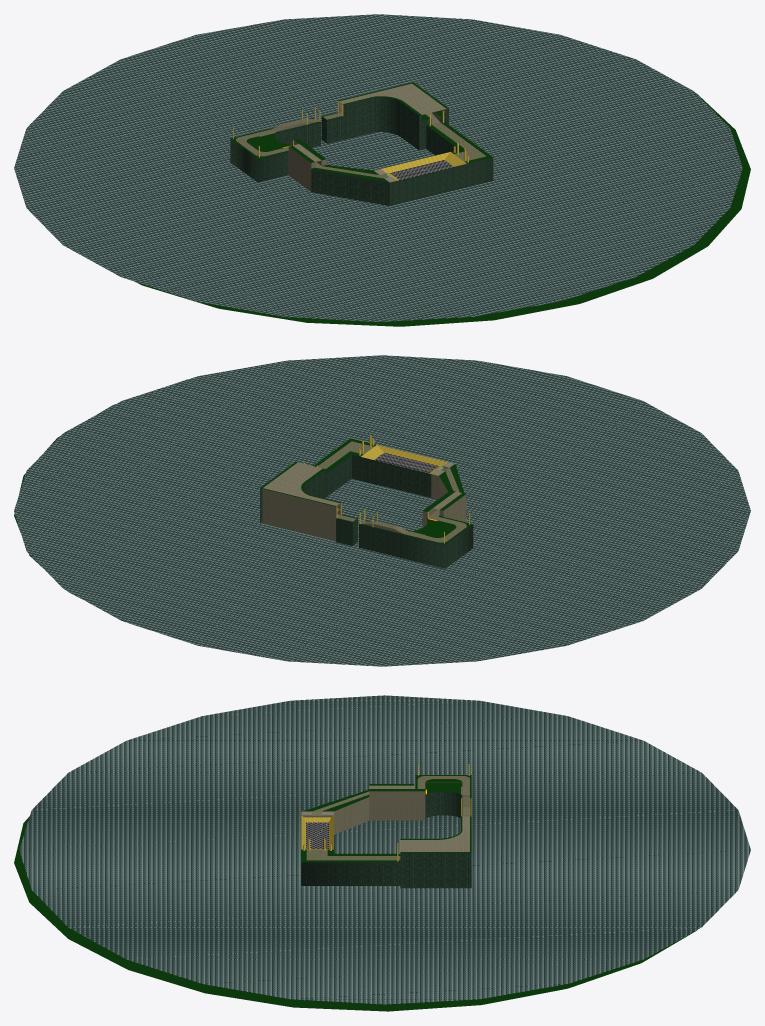
3 renders of one model, top to bottom at view 1: azimuth 30°, elevation 25°; view 2: azimuth 150°, elevation 25°; view 3: azimuth 270°, elevation 25°, orthographic.
Visible parts, largest first — view 1: clouds.002, wall_rock.001, grass.026, wall_brick.001, road_main.001, sand.007, water.015; view 2: clouds.002, wall_rock.001, wall_brick.001, grass.026, road_main.001, sand.007, water.015; view 3: clouds.002, grass.026, wall_rock.001, wall_brick.001, road_main.001, water.015.
Boxes of the visible parts, x1,y1,x2,y2 form: clouds.002: (14, 14, 742, 321); wall_rock.001: (230, 97, 493, 205); grass.026: (136, 82, 750, 326); wall_brick.001: (252, 83, 446, 191); road_main.001: (236, 106, 486, 178); sand.007: (381, 152, 466, 180); water.015: (390, 160, 453, 179); clouds.002: (14, 355, 750, 666); wall_rock.001: (260, 455, 473, 568); wall_brick.001: (262, 462, 466, 541); grass.026: (14, 379, 472, 598); road_main.001: (318, 441, 466, 542); sand.007: (361, 445, 447, 473); water.015: (374, 452, 438, 473); clouds.002: (19, 695, 750, 1004); grass.026: (14, 775, 696, 1011); wall_rock.001: (301, 791, 471, 888); wall_brick.001: (301, 782, 469, 851); road_main.001: (306, 776, 469, 860); water.015: (306, 822, 328, 848).
Bounding box in the file's own units: 308968 × 22900 × 308968.
Materials: 12 (12 with a texture image).
